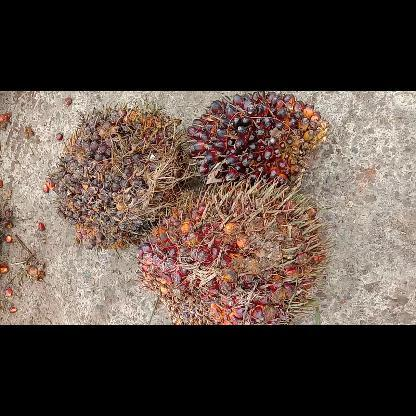Kurang masak: (53, 106, 179, 250), (186, 91, 328, 189)
TBS masak: (134, 184, 324, 324)
